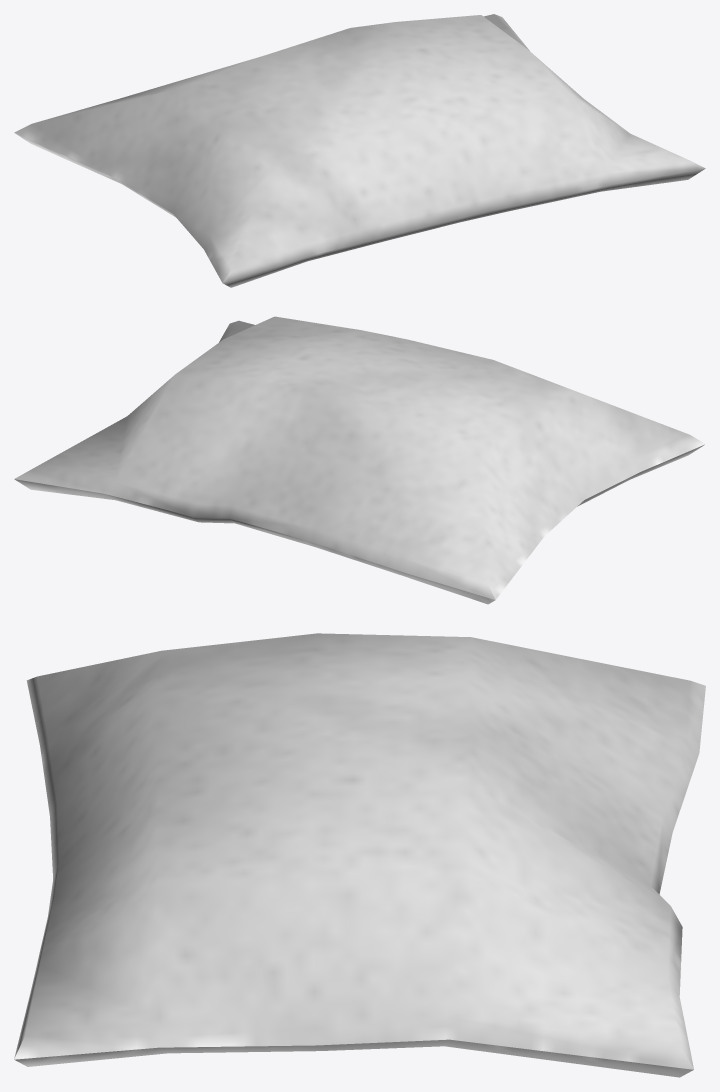
File: Coussin02.fbx
3 views of the same model, one above another, from view 1: azimuth 30°, elevation 25°; view 2: azimuth 150°, elevation 25°; view 3: azimuth 270°, elevation 25° (orthographic). The views are drawn at different scales.
Parts seen in each view (by area): view 1: Coussin02; view 2: Coussin02; view 3: Coussin02.
Boxes of the visible parts, <box> form: Coussin02: <box>14,14,705,287</box>; Coussin02: <box>14,316,705,604</box>; Coussin02: <box>14,633,705,1077</box>.
Size of the model in its own units: 2.07 by 1.57 by 0.5283.
